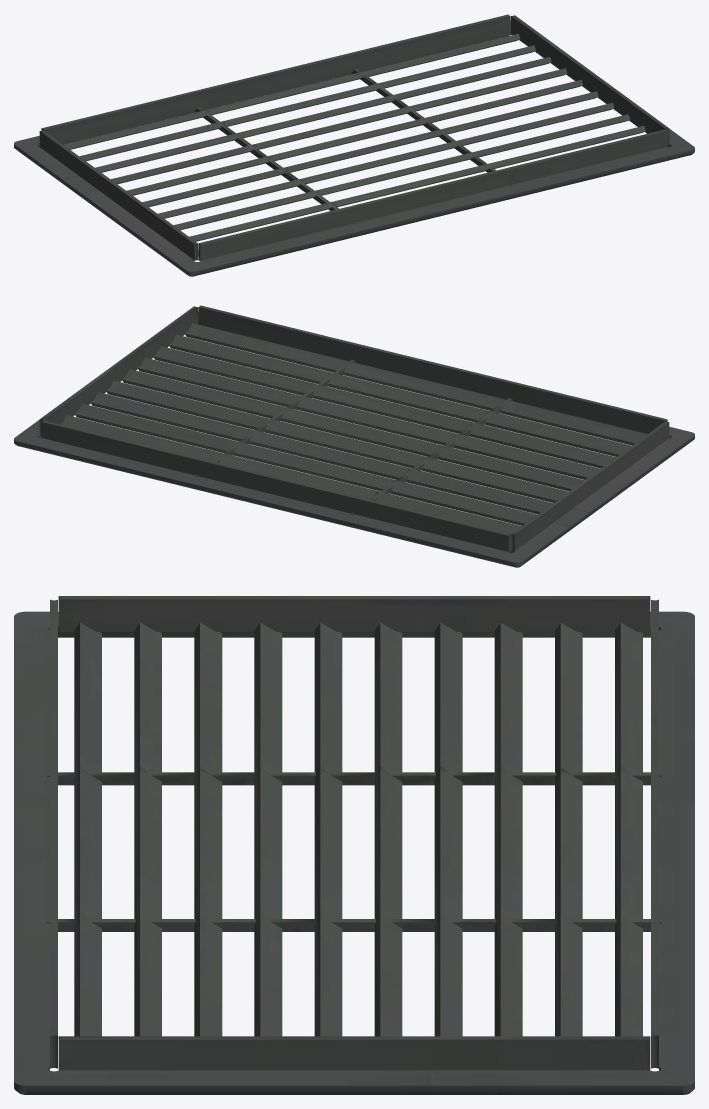
File: housing__front_grille.glb
The picture shows the model from 3 angles, top to bottom: view 1: azimuth 30°, elevation 25°; view 2: azimuth 150°, elevation 25°; view 3: azimuth 270°, elevation 25°; orthographic projection. The views are drawn at different scales.
Visible parts, largest first — view 1: geometry_0; view 2: geometry_0; view 3: geometry_0.
Part boxes in pixels (bbox=[...]): geometry_0: bbox=[14, 14, 694, 276]; geometry_0: bbox=[14, 305, 694, 567]; geometry_0: bbox=[14, 596, 694, 1094].
Size of the model in its own units: 0.56 by 0.0243 by 0.34.
1 material, 1 textured.
